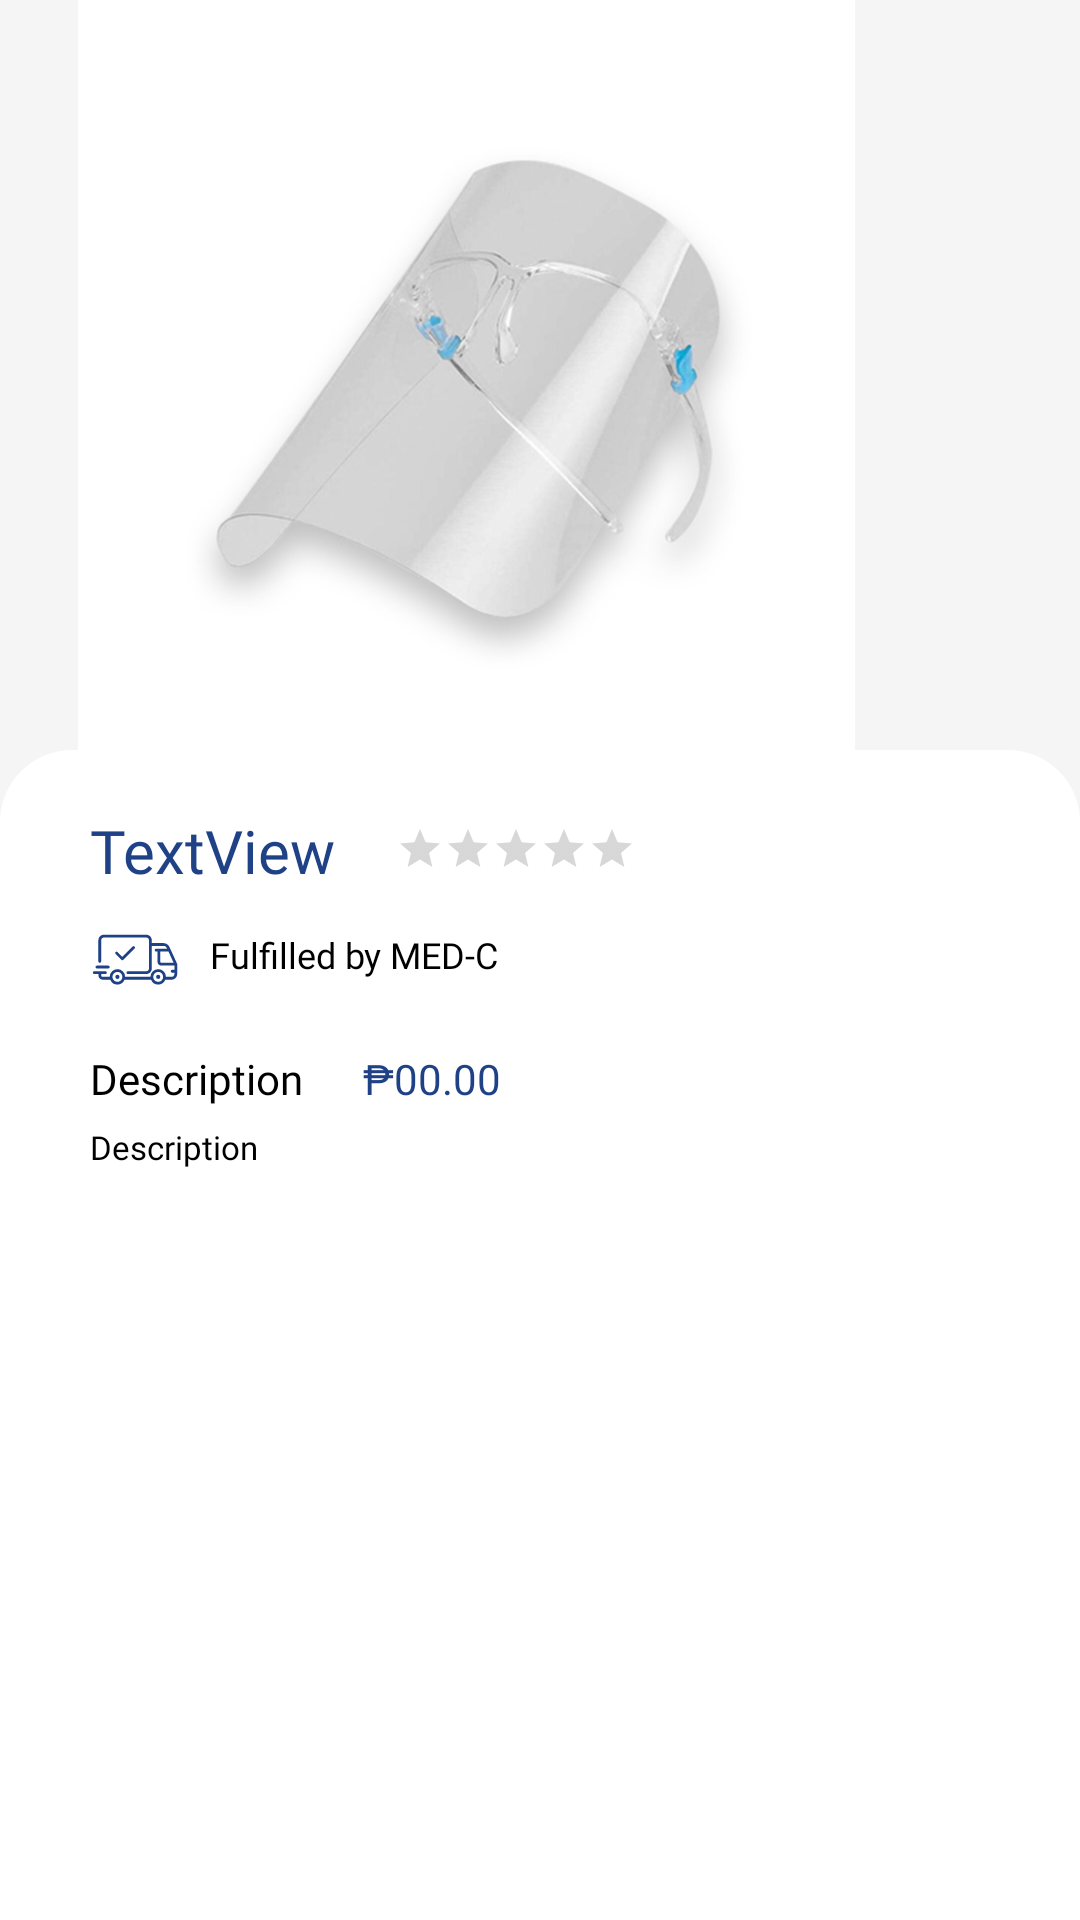

Locate icon controls on the screen. Image size 1080x1920, boxes as (x1, y1, x2, y2).
delivery: (93, 934, 178, 985)
